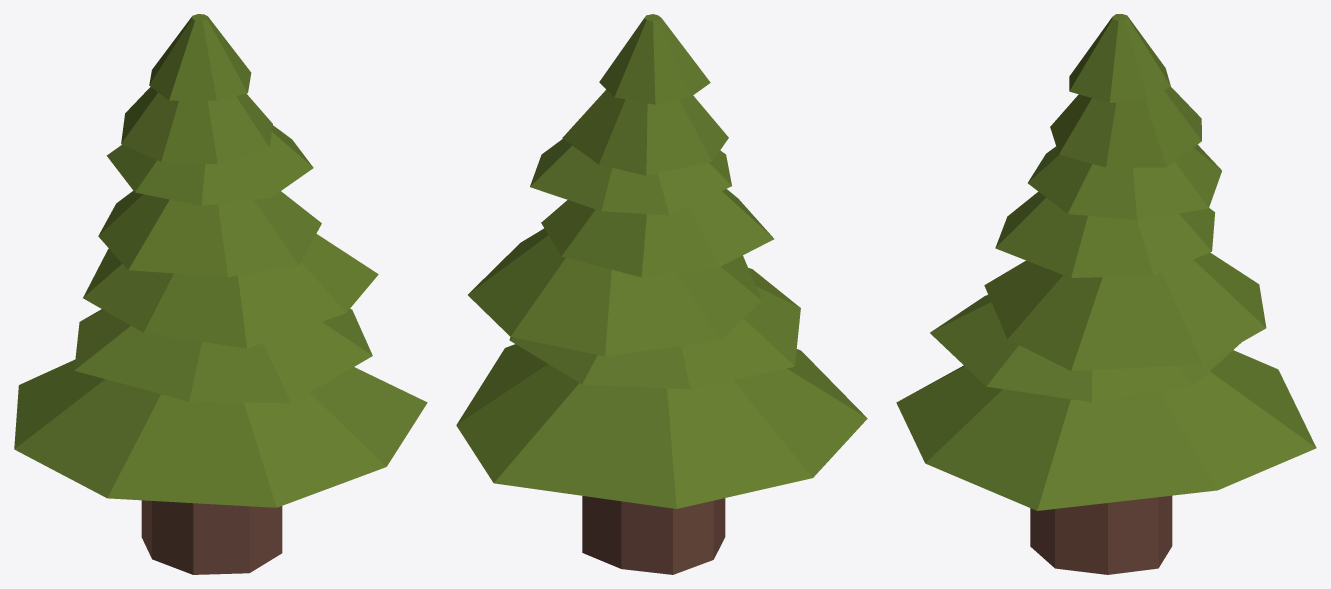
The model's file is Tree 4.fbx.
3 renders of one model, left to right at view 1: azimuth 30°, elevation 25°; view 2: azimuth 150°, elevation 25°; view 3: azimuth 270°, elevation 25°, orthographic.
Parts seen in each view (by area): view 1: BlätterUnten, Cube; view 2: BlätterUnten, Cube; view 3: BlätterUnten, Cube.
Part boxes in pixels (left/top/right/bottom): BlätterUnten: left=14, top=14, right=427, bottom=507; Cube: left=141, top=500, right=282, bottom=574; BlätterUnten: left=456, top=14, right=867, bottom=508; Cube: left=582, top=496, right=725, bottom=574; BlätterUnten: left=896, top=14, right=1316, bottom=510; Cube: left=1030, top=495, right=1172, bottom=574.
Bounding box in the file's own units: 803 × 1123 × 813.
